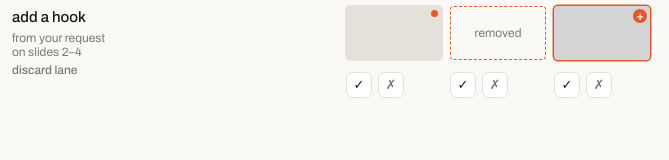
Test: LaneRow › shows the server error when an accept fails
Click the button named "accept: modify slide 3, Sharper s3". click: (359, 85)
box: [346,72,372,98]
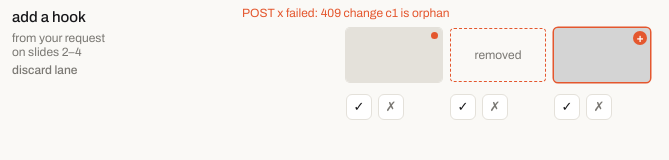
Expected: the message shows "orphan", [242,6,450,20]
